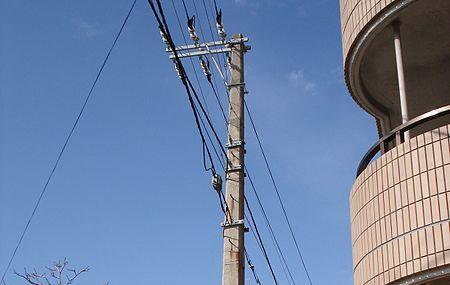utility_pole: (150, 6, 259, 126)
